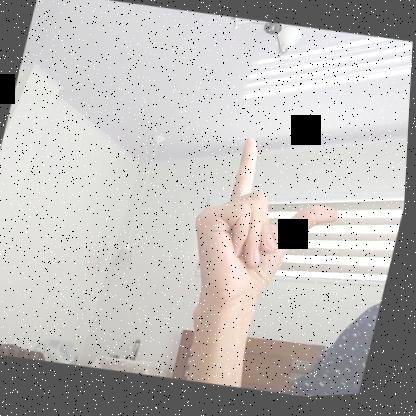L: (175, 127, 356, 335)
